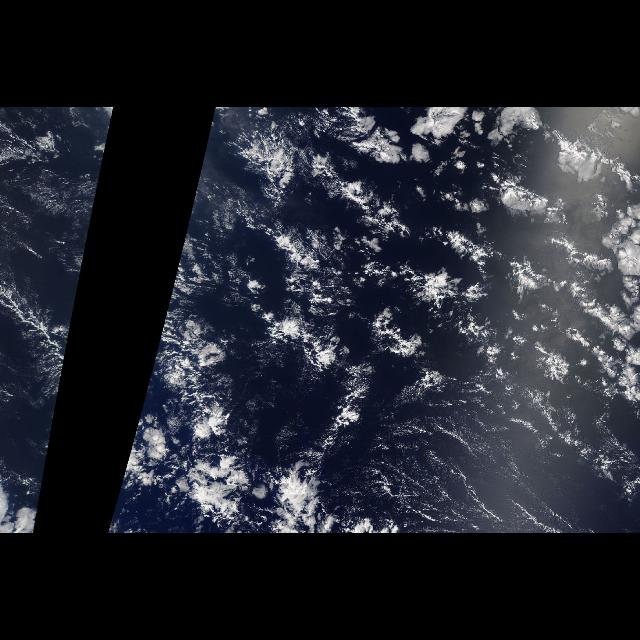Flower: (220, 112, 640, 534)
Sugar: (378, 384, 622, 534)
